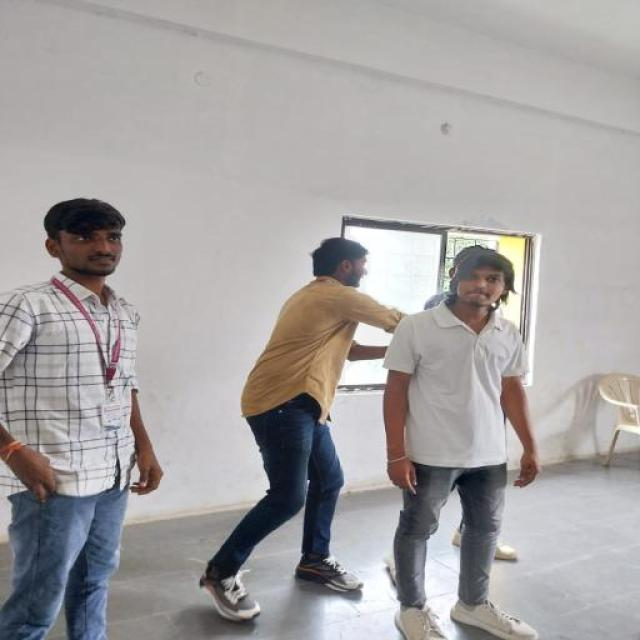id_card: (54, 276, 136, 430)
